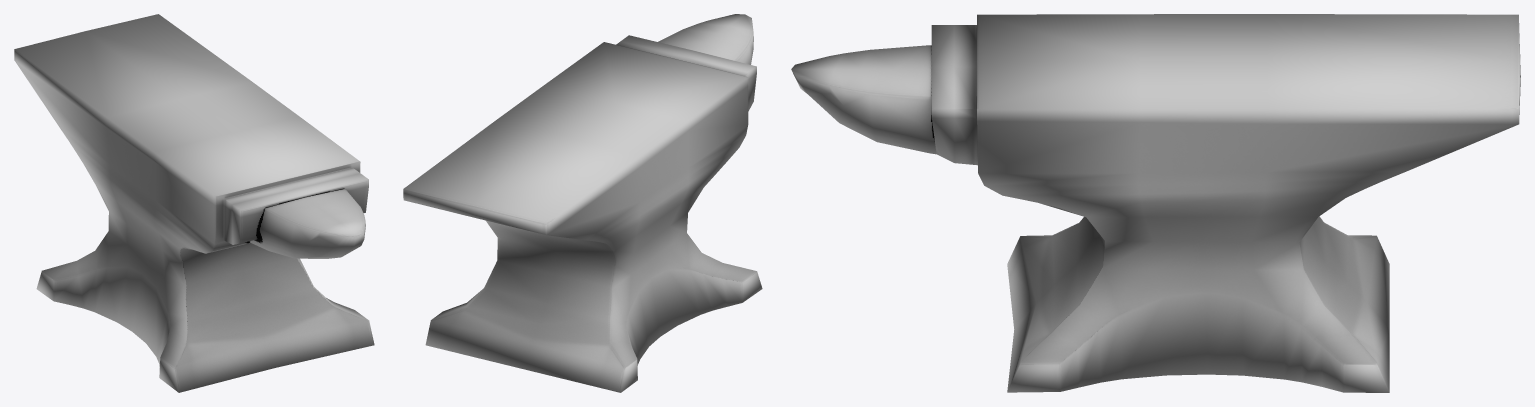
The model's file is yunque.fbx.
3 renders of one model, left to right at view 1: azimuth 30°, elevation 25°; view 2: azimuth 150°, elevation 25°; view 3: azimuth 270°, elevation 25°, orthographic. The views are drawn at different scales.
Parts seen in each view (by area): view 1: yunque_low; view 2: yunque_low; view 3: yunque_low.
Part boxes in pixels (<box>): yunque_low: <box>14,14,374,392</box>; yunque_low: <box>403,14,762,392</box>; yunque_low: <box>791,14,1520,392</box>.
Bounding box in the file's own units: 52.93 × 51.64 × 127.
